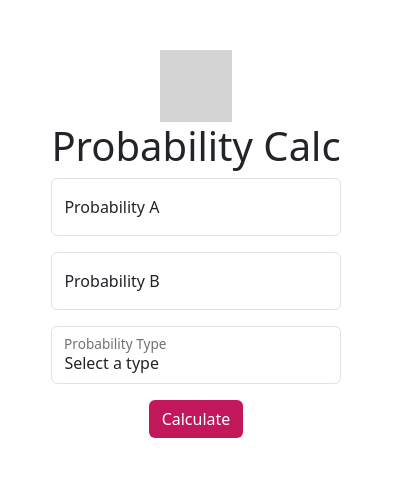
CalculatorCalculateProbability Component › CalculatorCalculateProbability Component › displays generic error when API request fails
# Fill in the form fields
In the number field labelled "Probability A": (196, 207) [51,178,341,236], type "0.5"
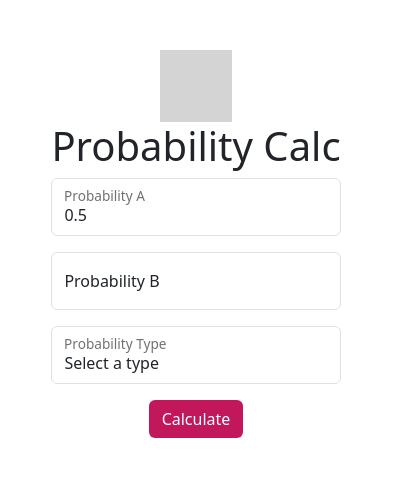
In the number field labelled "Probability B": (196, 281) [51,252,341,310], type "0.5"
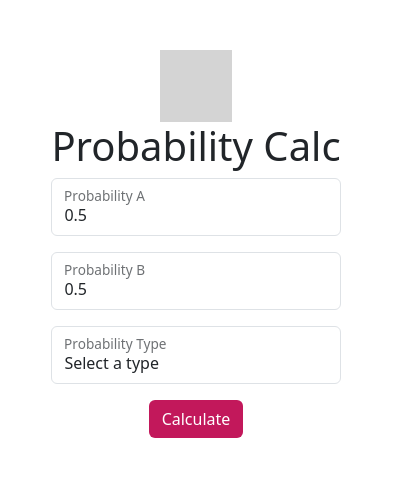
# Select 'Combined With' from the dropdown
Select "Combined With" in the dropdown labelled "Probability Type": (196, 355) [51,326,341,384]
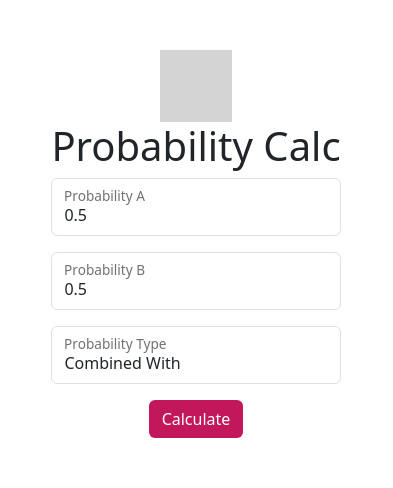
# Attempt to submit without selecting a type
Click the button "Calculate": (196, 419) [149,400,243,438]
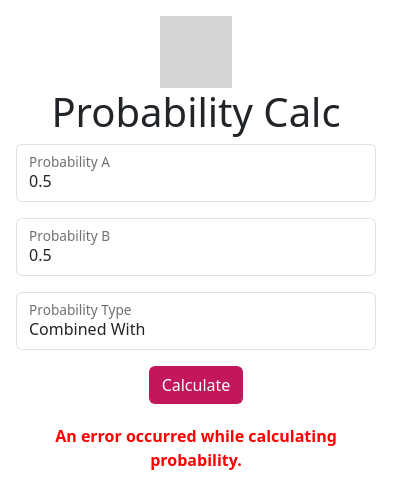
Check: the text "An error occurred while calculating probability." is shown, box [55,425,337,471]
